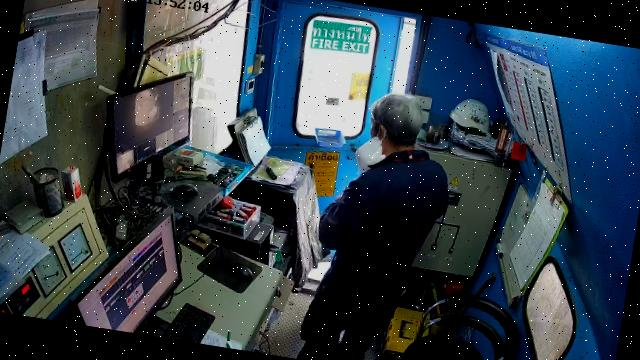Head: (371, 95, 423, 156)
People: (301, 95, 448, 359)
